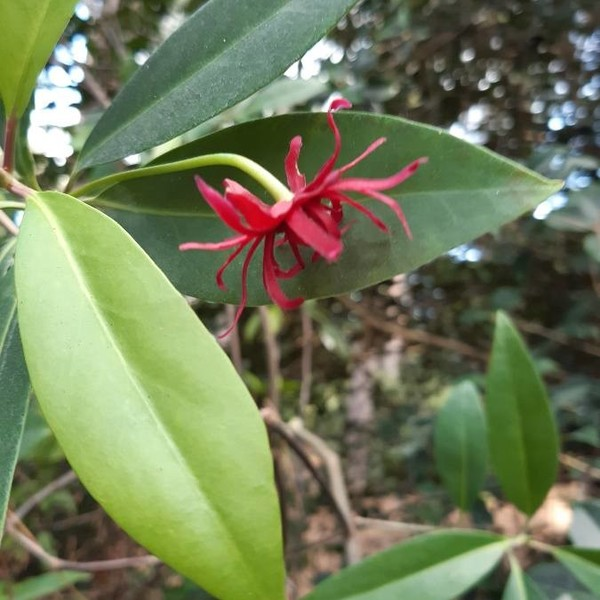obstacle: (22, 11, 492, 534)
